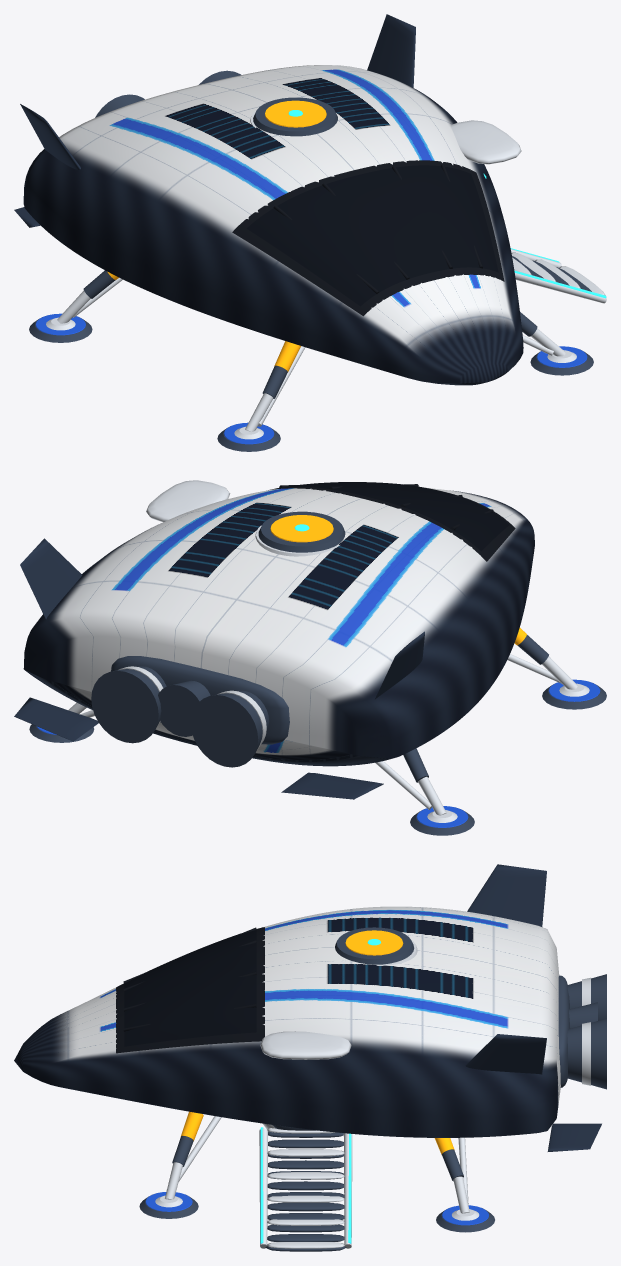
The model's file is nave-pinguino.glb.
The picture shows the model from 3 angles, top to bottom: view 1: azimuth 30°, elevation 25°; view 2: azimuth 150°, elevation 25°; view 3: azimuth 270°, elevation 25°; orthographic projection. The views are drawn at different scales.
Visible parts, largest first — view 1: Hull, CanopyGlass, LandingGear, HatchRamp; view 2: Hull, LandingGear, CanopyGlass; view 3: Hull, CanopyGlass, HatchRamp, LandingGear.
Part boxes in pixels (left/top/right/bottom): Hull: left=14, top=14, right=523, bottom=385; CanopyGlass: left=246, top=165, right=498, bottom=306; LandingGear: left=29, top=270, right=593, bottom=451; HatchRamp: left=510, top=248, right=606, bottom=303; Hull: left=14, top=480, right=534, bottom=799; LandingGear: left=29, top=628, right=606, bottom=835; CanopyGlass: left=276, top=482, right=509, bottom=551; Hull: left=14, top=864, right=606, bottom=1151; CanopyGlass: left=124, top=930, right=256, bottom=1046; HatchRamp: left=259, top=1127, right=352, bottom=1251; LandingGear: left=139, top=1111, right=494, bottom=1232.
Bounding box in the file's own units: 2.23 × 0.938 × 2.6.
Materials: 10 (1 with a texture image).
